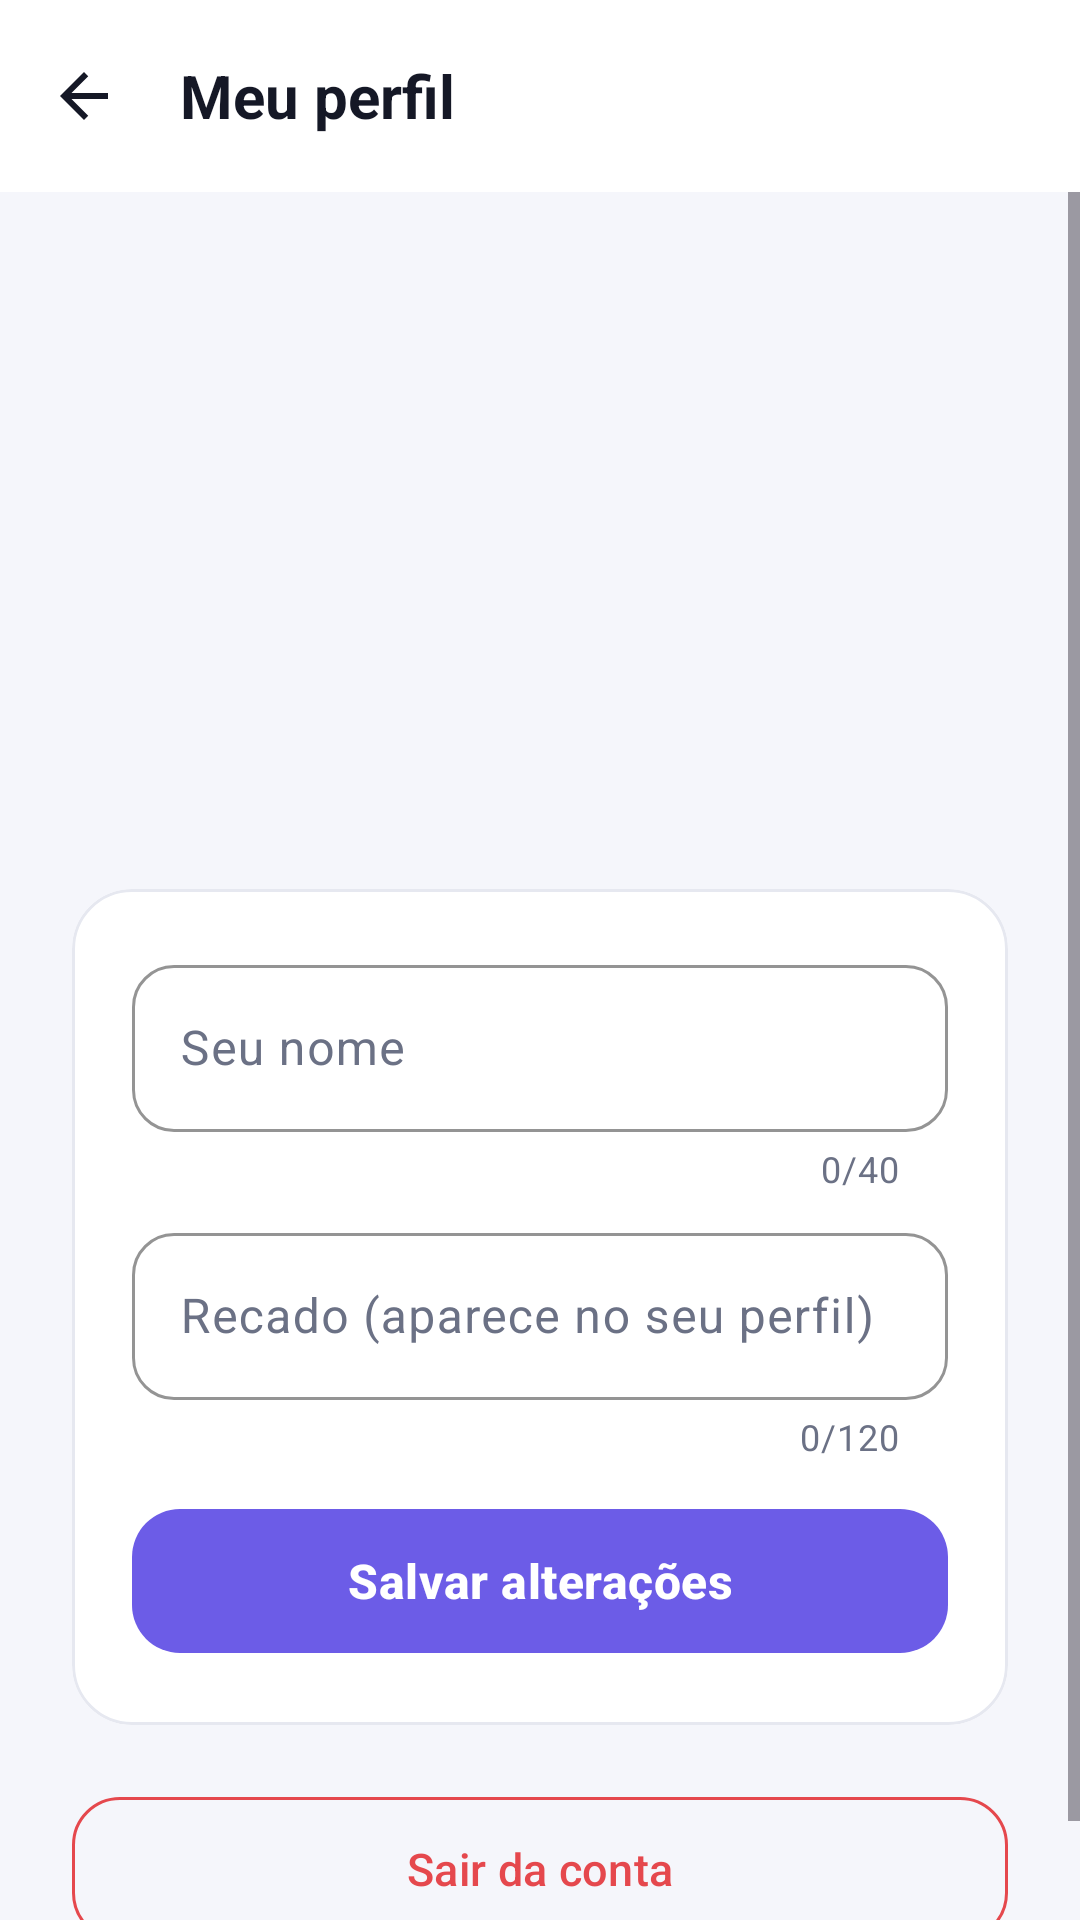

Where to tap for icons on this 1080px×1920px app screen, as (x,y):
Voltar: (84,96)
